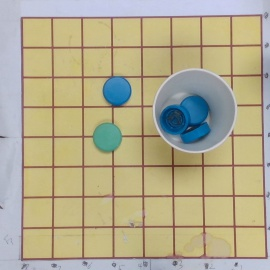blue: (103, 76, 133, 106)
cup_blue: (152, 68, 238, 155)
green: (92, 123, 122, 152)
